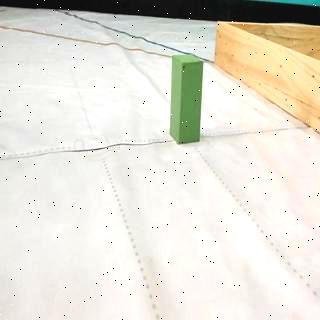greenbox: (170, 54, 203, 144)
